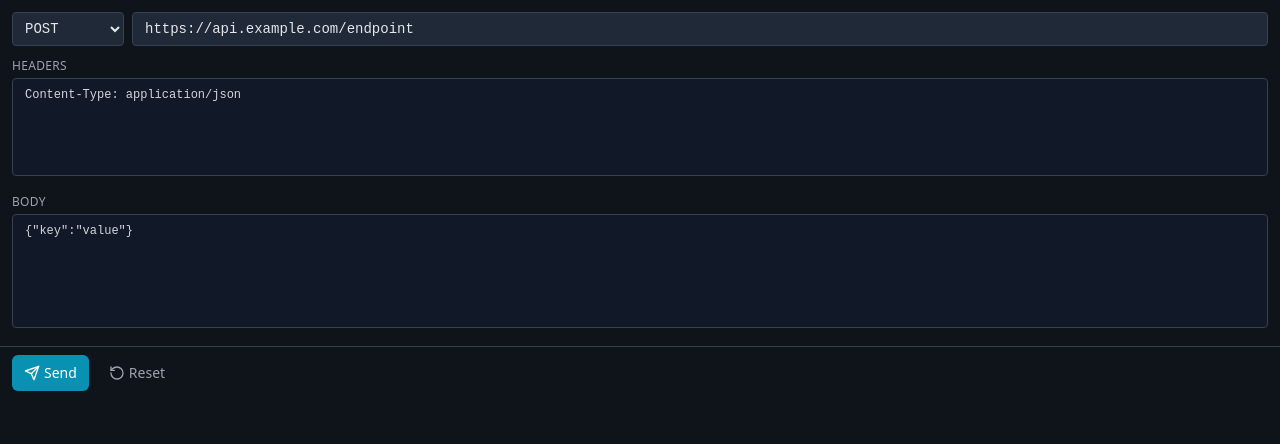
Scenario: ReplayPanel › shows error when mutateAsync rejects
This screenshot has width=1280, height=444.
Click the button "Send" at {"x": 50, "y": 373}, box [12,355,89,391]
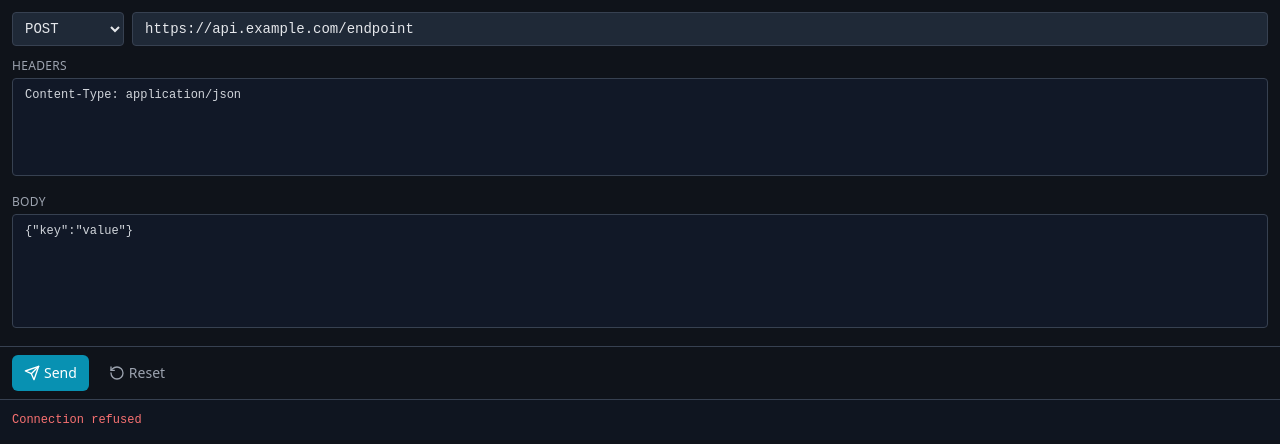
Now the text "Connection refused" is shown, box [12,413,142,427]
